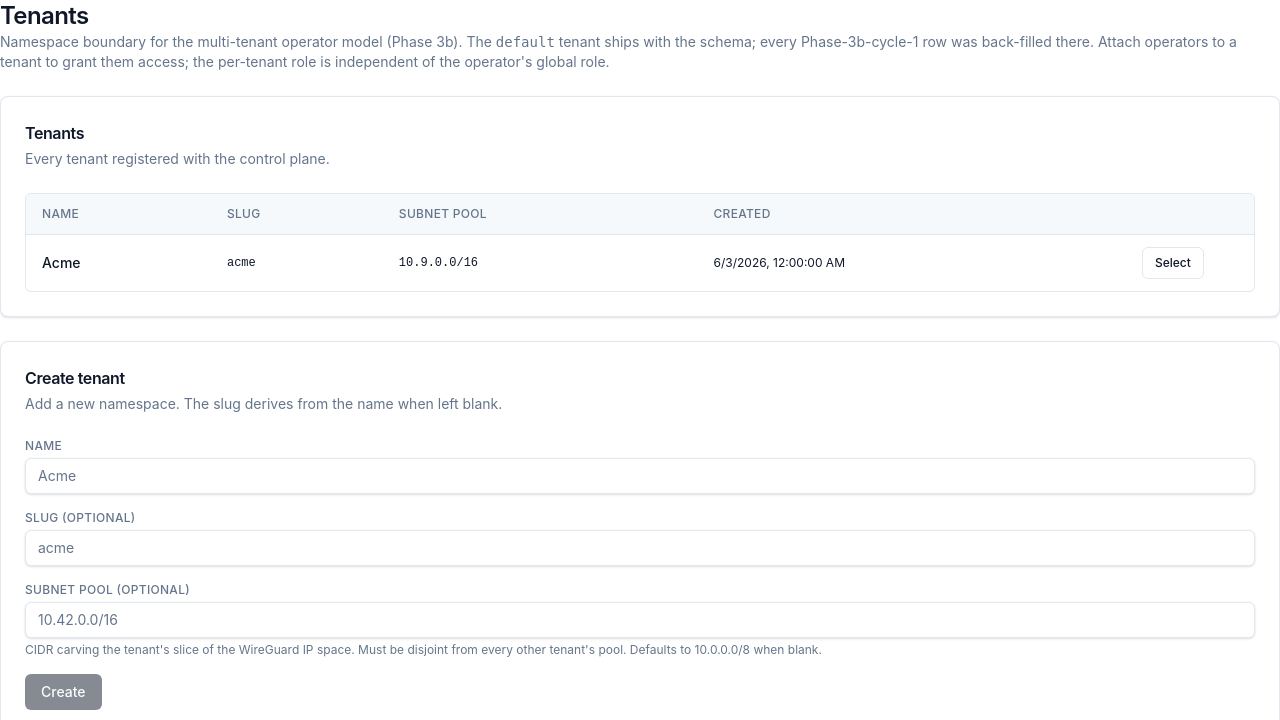
Tenants page — detail + operators › renders attached operators after a row is selected
This screenshot has width=1280, height=720.
Click the button with aria-label "select acme": (1173, 262) [1142,246,1204,278]
(page scrolled)
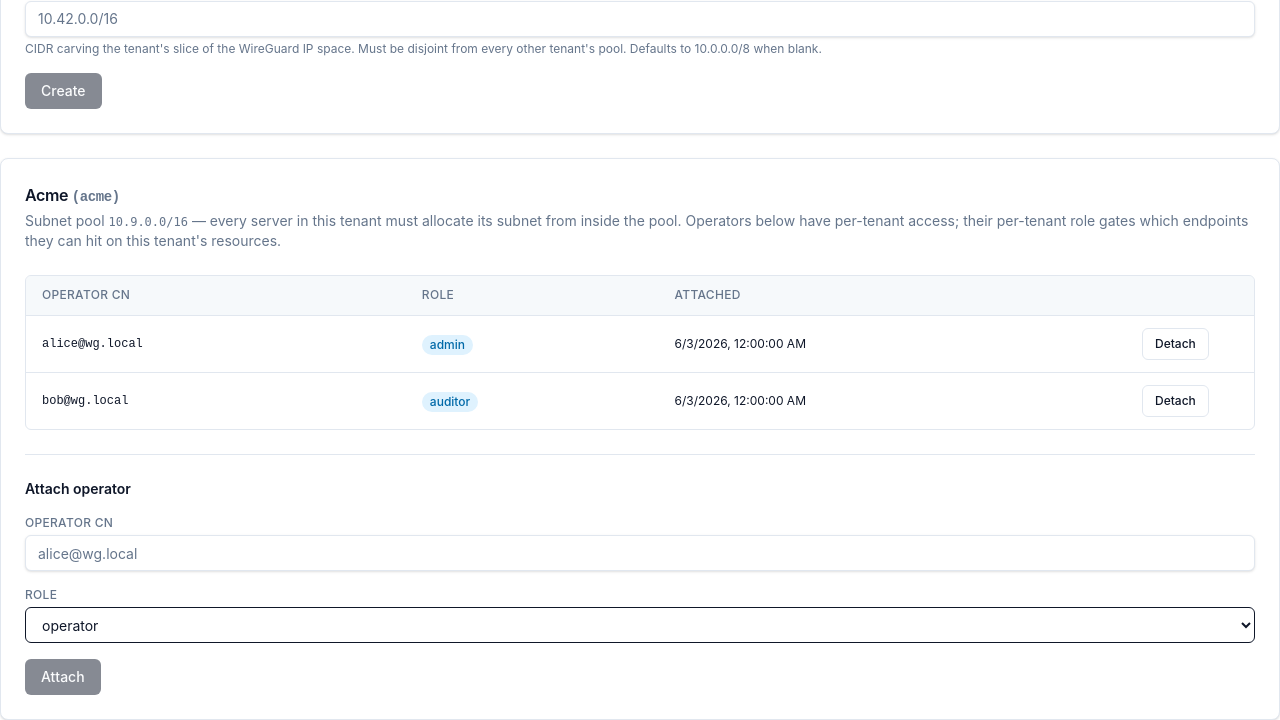
expect the text "alice@wg.local" is shown: met, box [26,316,406,372]
expect the text "bob@wg.local" is shown: met, box [26,372,406,429]
